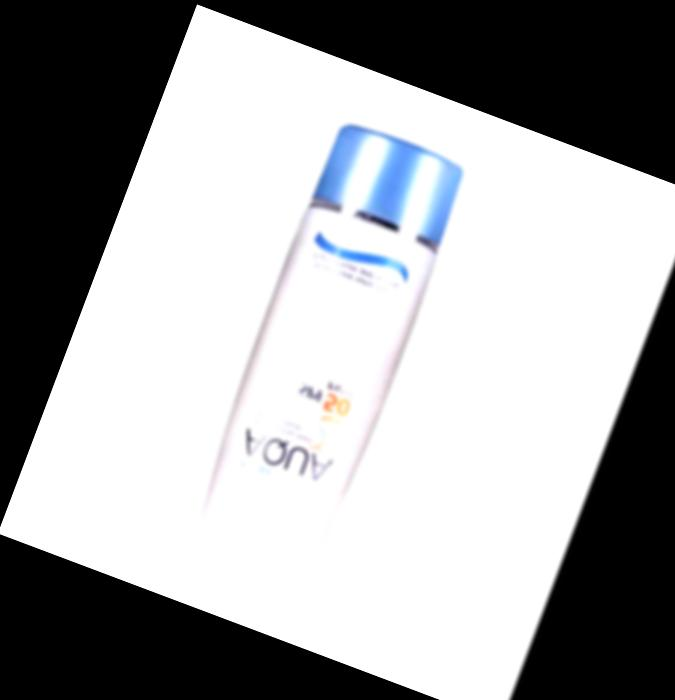cosmetic: (178, 118, 478, 596)
